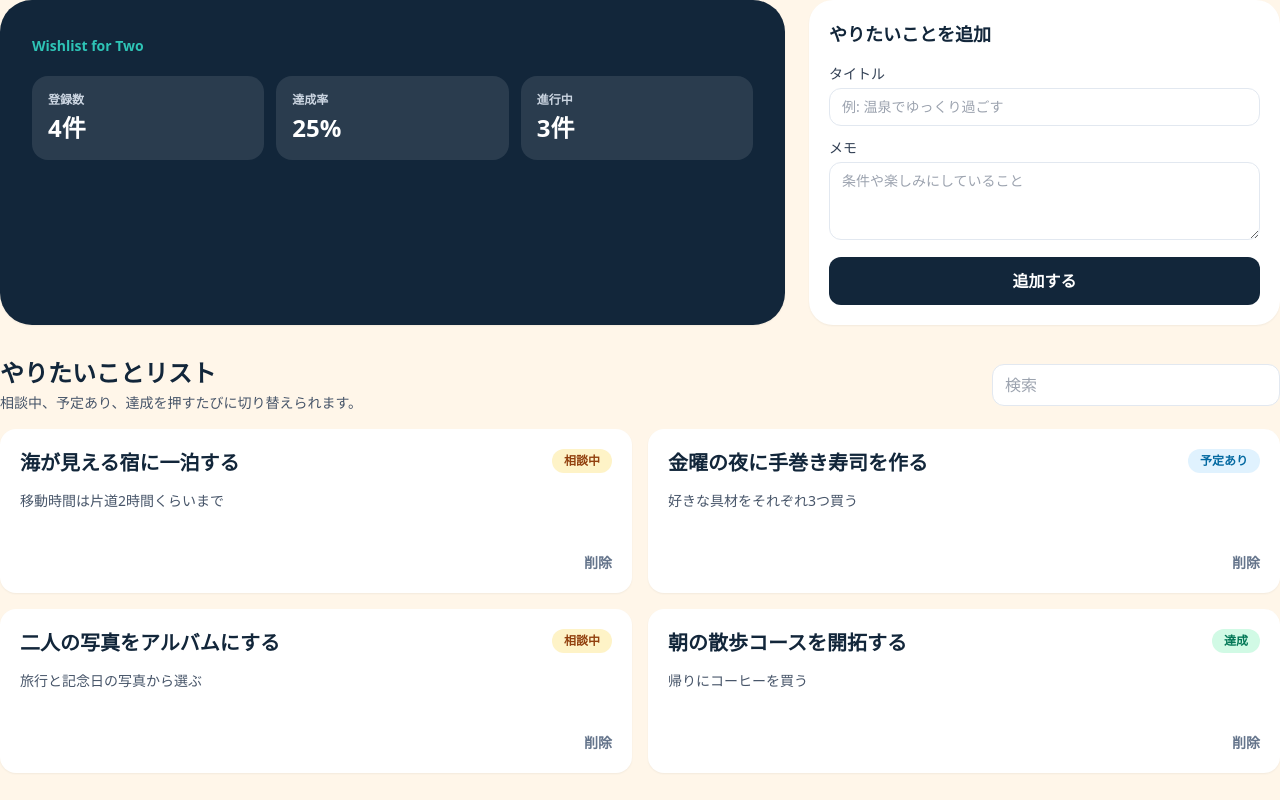
it: CoupleBucketListApp › adds a new wish item
The width and height of the screenshot is (1280, 800).
Type "記念日に夜景を見に行く" into the field labelled "タイトル" at (1044, 107), box [829, 88, 1260, 126]
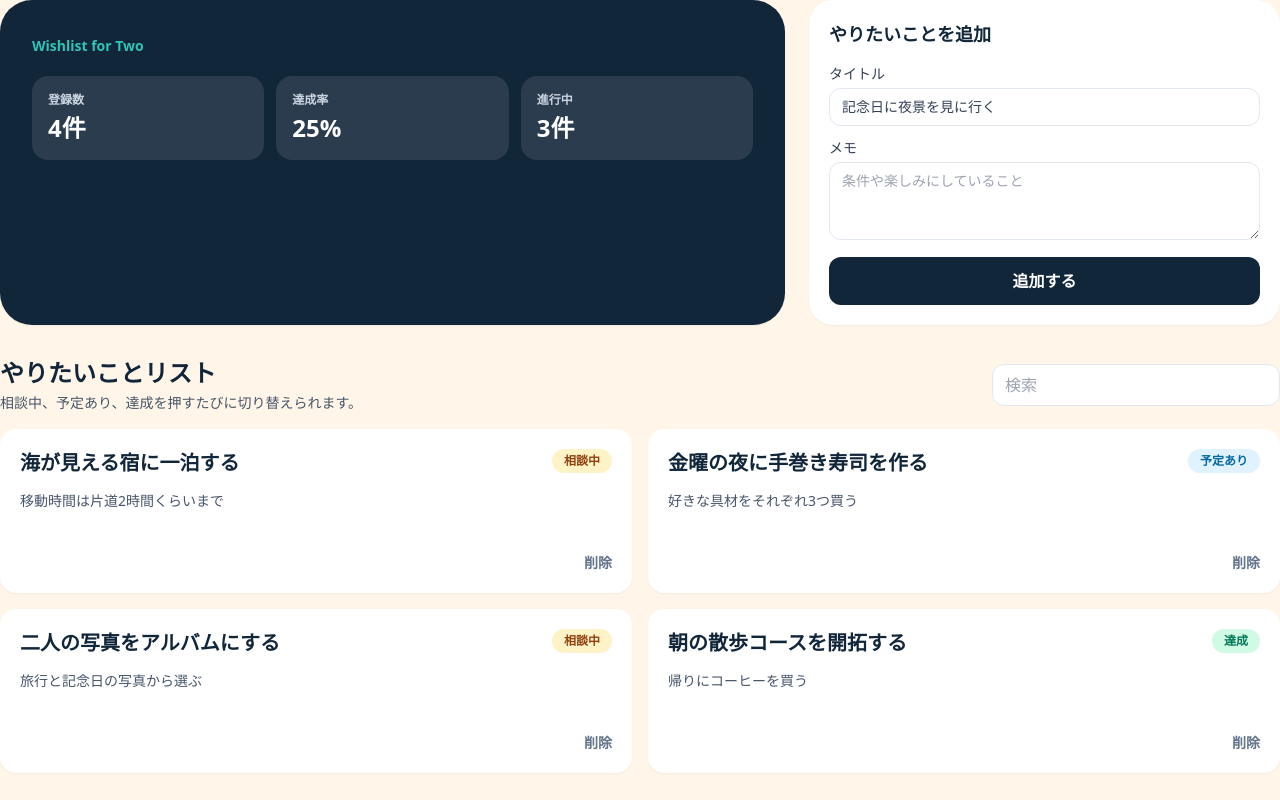
Type "早めにレストランを探す" into the text box labelled "メモ" at (1044, 201), box [829, 162, 1260, 240]
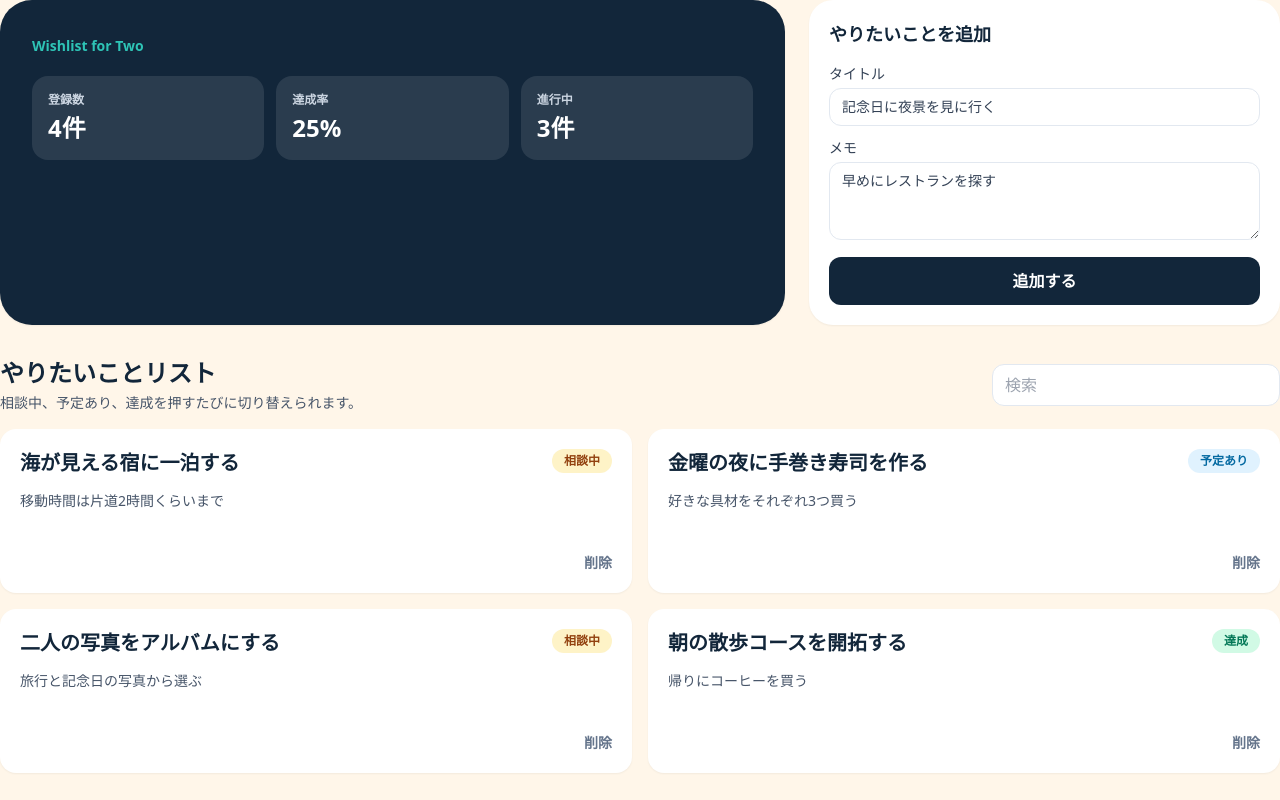
Click the button "追加する" at (1044, 281), box [829, 257, 1260, 305]
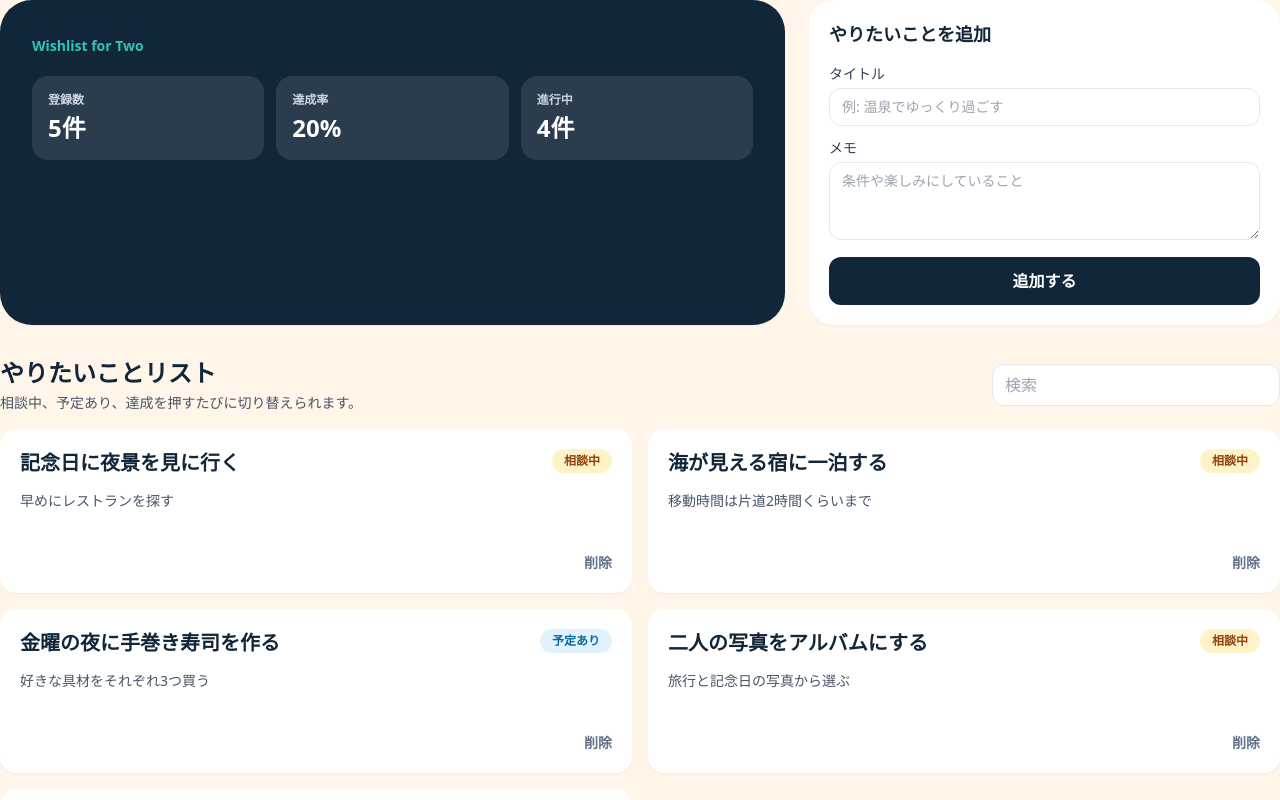
Check: the heading "記念日に夜景を見に行く" is shown, box [20, 449, 240, 477]
Check: the text "早めにレストランを探す" is shown, box [20, 491, 174, 510]
